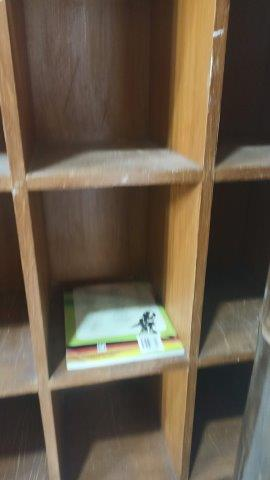kertas: (59, 281, 189, 371)
